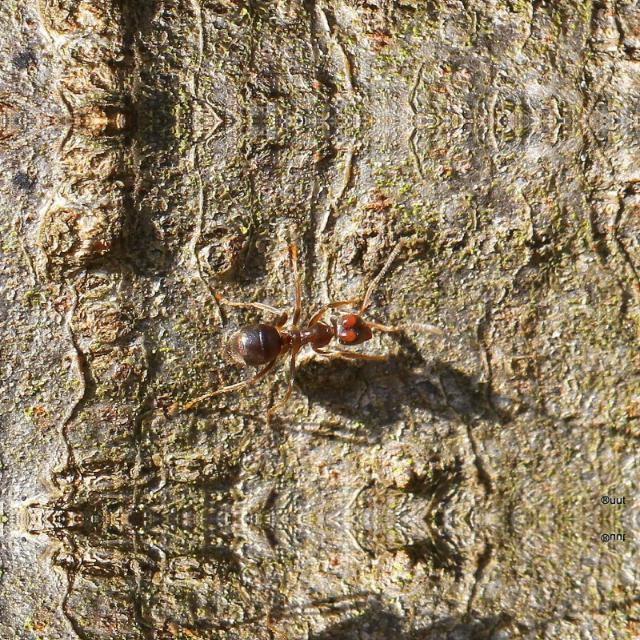Lasius: (183, 276, 415, 396)
